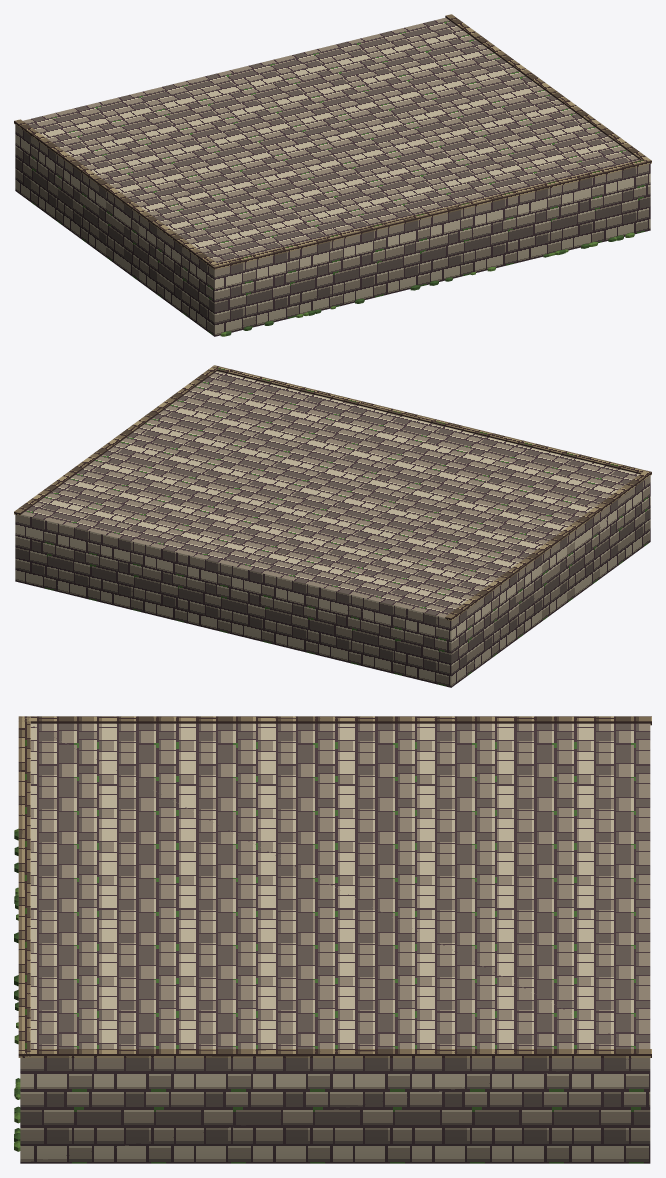
Rendered from scene_wall_n.glb.
The picture shows the model from 3 angles, top to bottom: view 1: azimuth 30°, elevation 25°; view 2: azimuth 150°, elevation 25°; view 3: azimuth 270°, elevation 25°; orthographic projection. The views are drawn at different scales.
Parts seen in each view (by area): view 1: scene_wall_n; view 2: scene_wall_n; view 3: scene_wall_n.
Boxes of the visible parts, x1,y1,x2,y2 form: scene_wall_n: [14, 14, 651, 336]; scene_wall_n: [14, 365, 651, 687]; scene_wall_n: [14, 716, 651, 1163].
Size of the model in its own units: 24.1 by 3.77 by 19.24.
2 materials, 1 textured.
